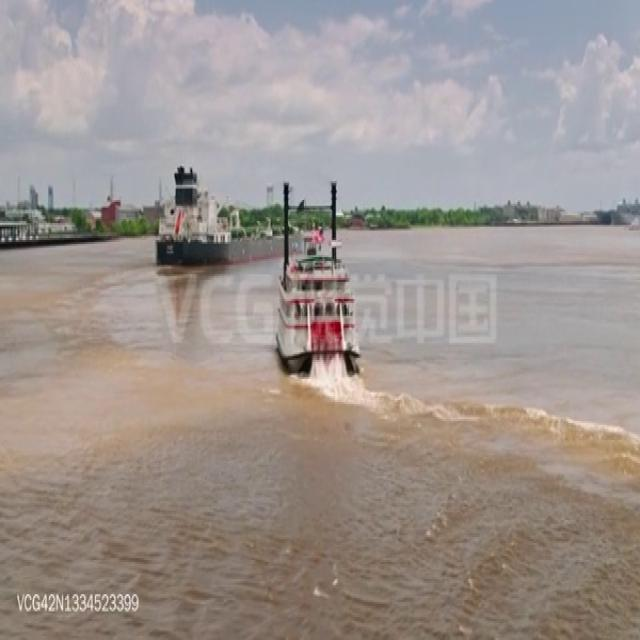cargoship: (153, 156, 307, 266)
passenger ship: (269, 192, 361, 380)
